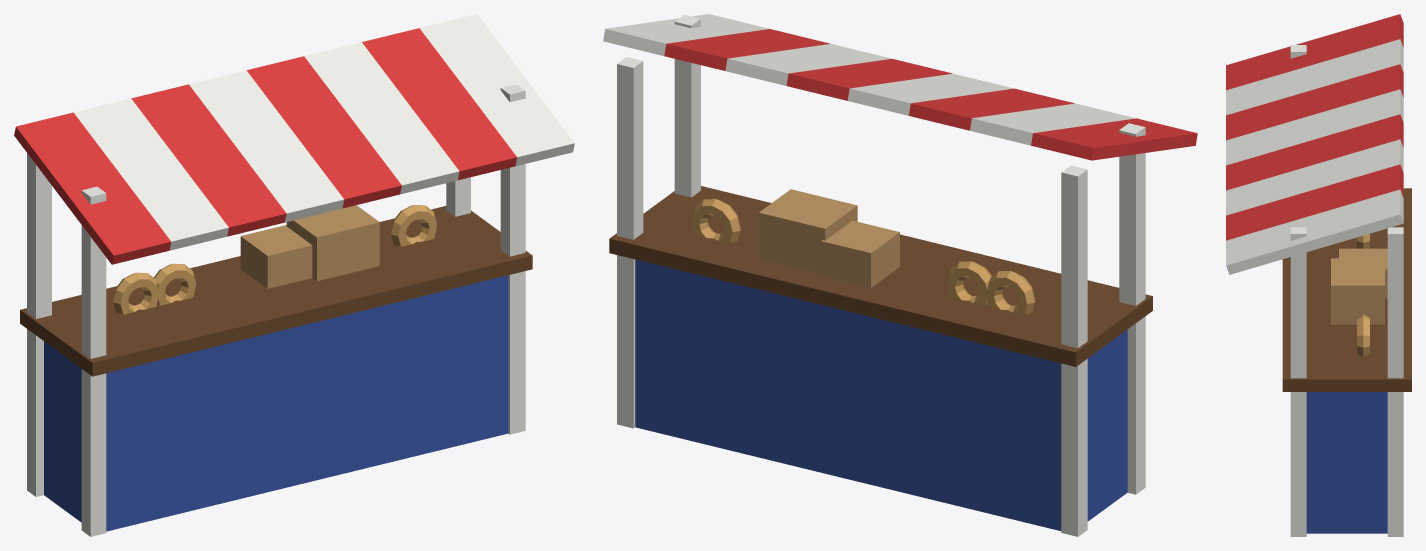
Rendered from ShopStall.fbx.
3 renders of one model, left to right at view 1: azimuth 30°, elevation 25°; view 2: azimuth 150°, elevation 25°; view 3: azimuth 270°, elevation 25°, orthographic. The views are drawn at different scales.
Parts seen in each view (by area): view 1: Counter, AwningRed, AwningWhite, Top, Posts, Crates, Tape; view 2: Counter, Posts, Top, AwningRed, AwningWhite, Crates, Tape; view 3: AwningWhite, AwningRed, Counter, Top, Posts, Crates, Tape.
Boxes of the visible parts, x1,y1,x2,y2 form: Counter: (44,275,508,531); AwningRed: (14,28,517,264); AwningWhite: (74,14,574,250); Top: (20,206,532,376); Posts: (27,84,525,536); Crates: (240,205,379,288); Tape: (113,205,436,314); Counter: (635,259,1127,530); Posts: (617,14,1145,536); Top: (609,186,1152,366); AwningRed: (664,29,1197,160); AwningWhite: (603,14,1135,145); Crates: (758,189,899,287); Tape: (691,199,1034,315); AwningWhite: (1226,39,1403,274); AwningRed: (1226,14,1403,240); Counter: (1306,392,1387,533); Top: (1282,188,1411,391); Posts: (1290,45,1403,536); Crates: (1331,248,1387,324); Tape: (1357,233,1369,356).
Bounding box in the file's own units: 8.8 × 6.72 × 3.45.
